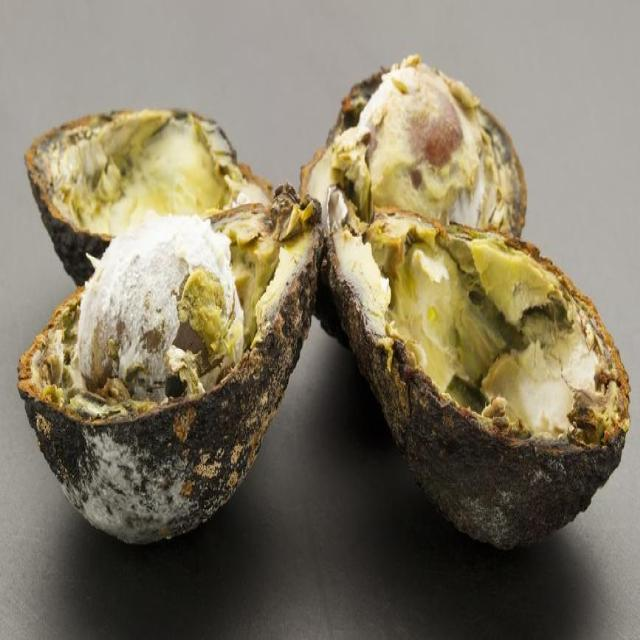Wet Waste: (14, 51, 633, 552)
